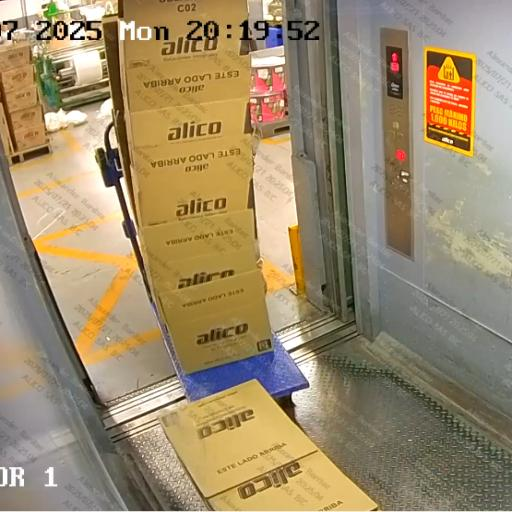Caja caida: (67, 186, 469, 512)
